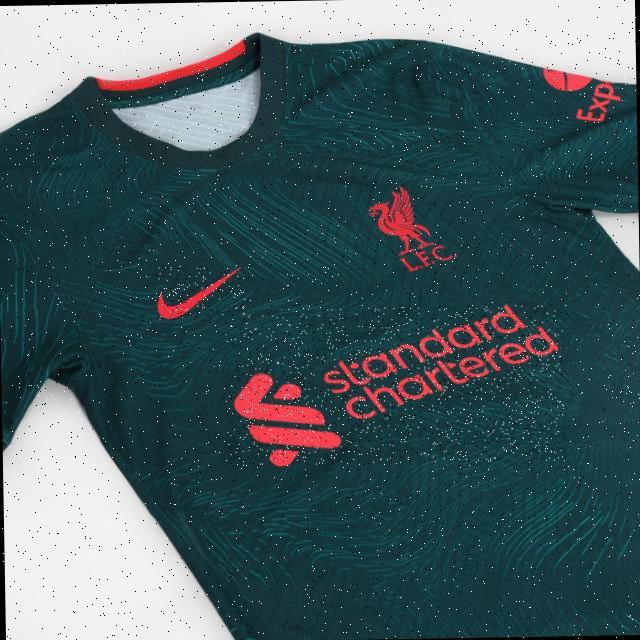Nike: (156, 264, 245, 320)
Standard Chartered: (225, 304, 565, 467)
